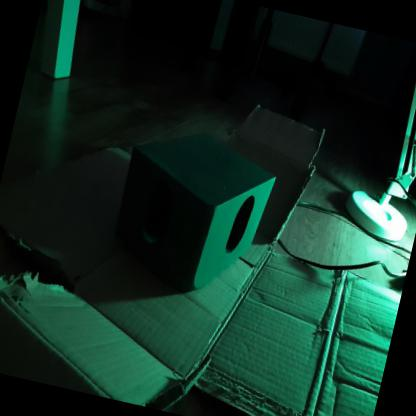CornerCasting: (100, 115, 282, 310)
